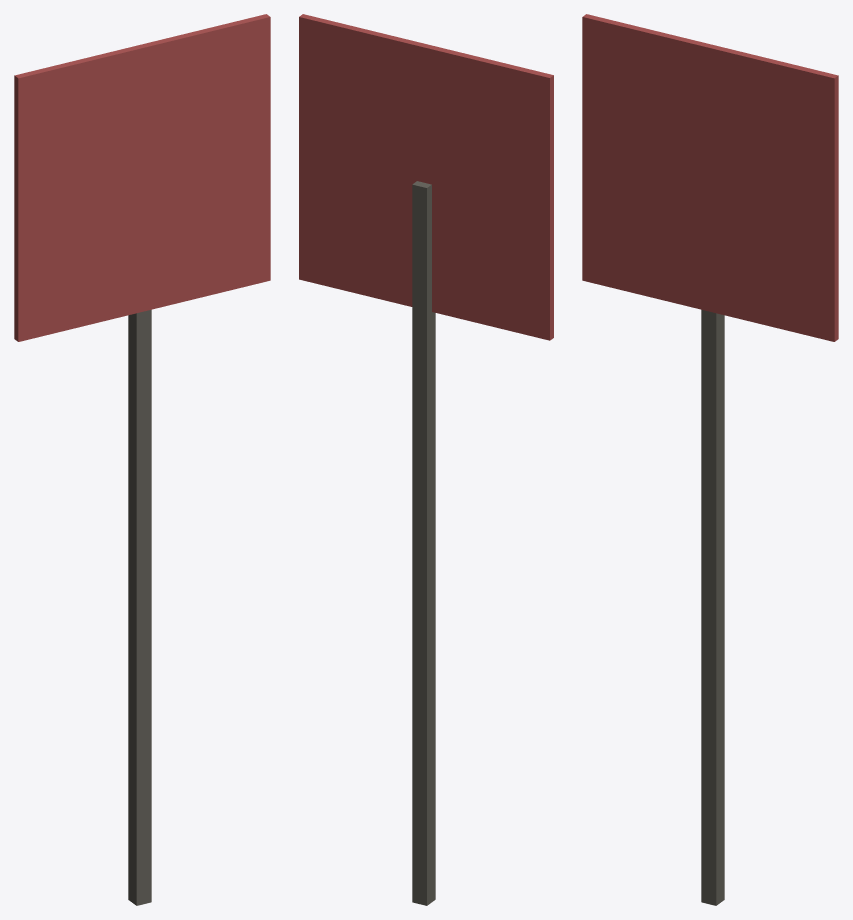
The model's file is RoadSigns.fbx.
The picture shows the model from 3 angles, left to right: view 1: azimuth 30°, elevation 25°; view 2: azimuth 150°, elevation 25°; view 3: azimuth 330°, elevation 25°; orthographic projection.
Visible parts, largest first — view 1: Cube.001, Cube; view 2: Cube.001, Cube; view 3: Cube.001, Cube.
Boxes of the visible parts, <box> form: Cube.001: <box>14,14,270,341</box>; Cube: <box>128,309,151,905</box>; Cube.001: <box>299,14,553,340</box>; Cube: <box>412,181,435,905</box>; Cube.001: <box>582,14,838,341</box>; Cube: <box>701,309,724,905</box>.
Size of the model in its own units: 119 by 386 by 7.25.
